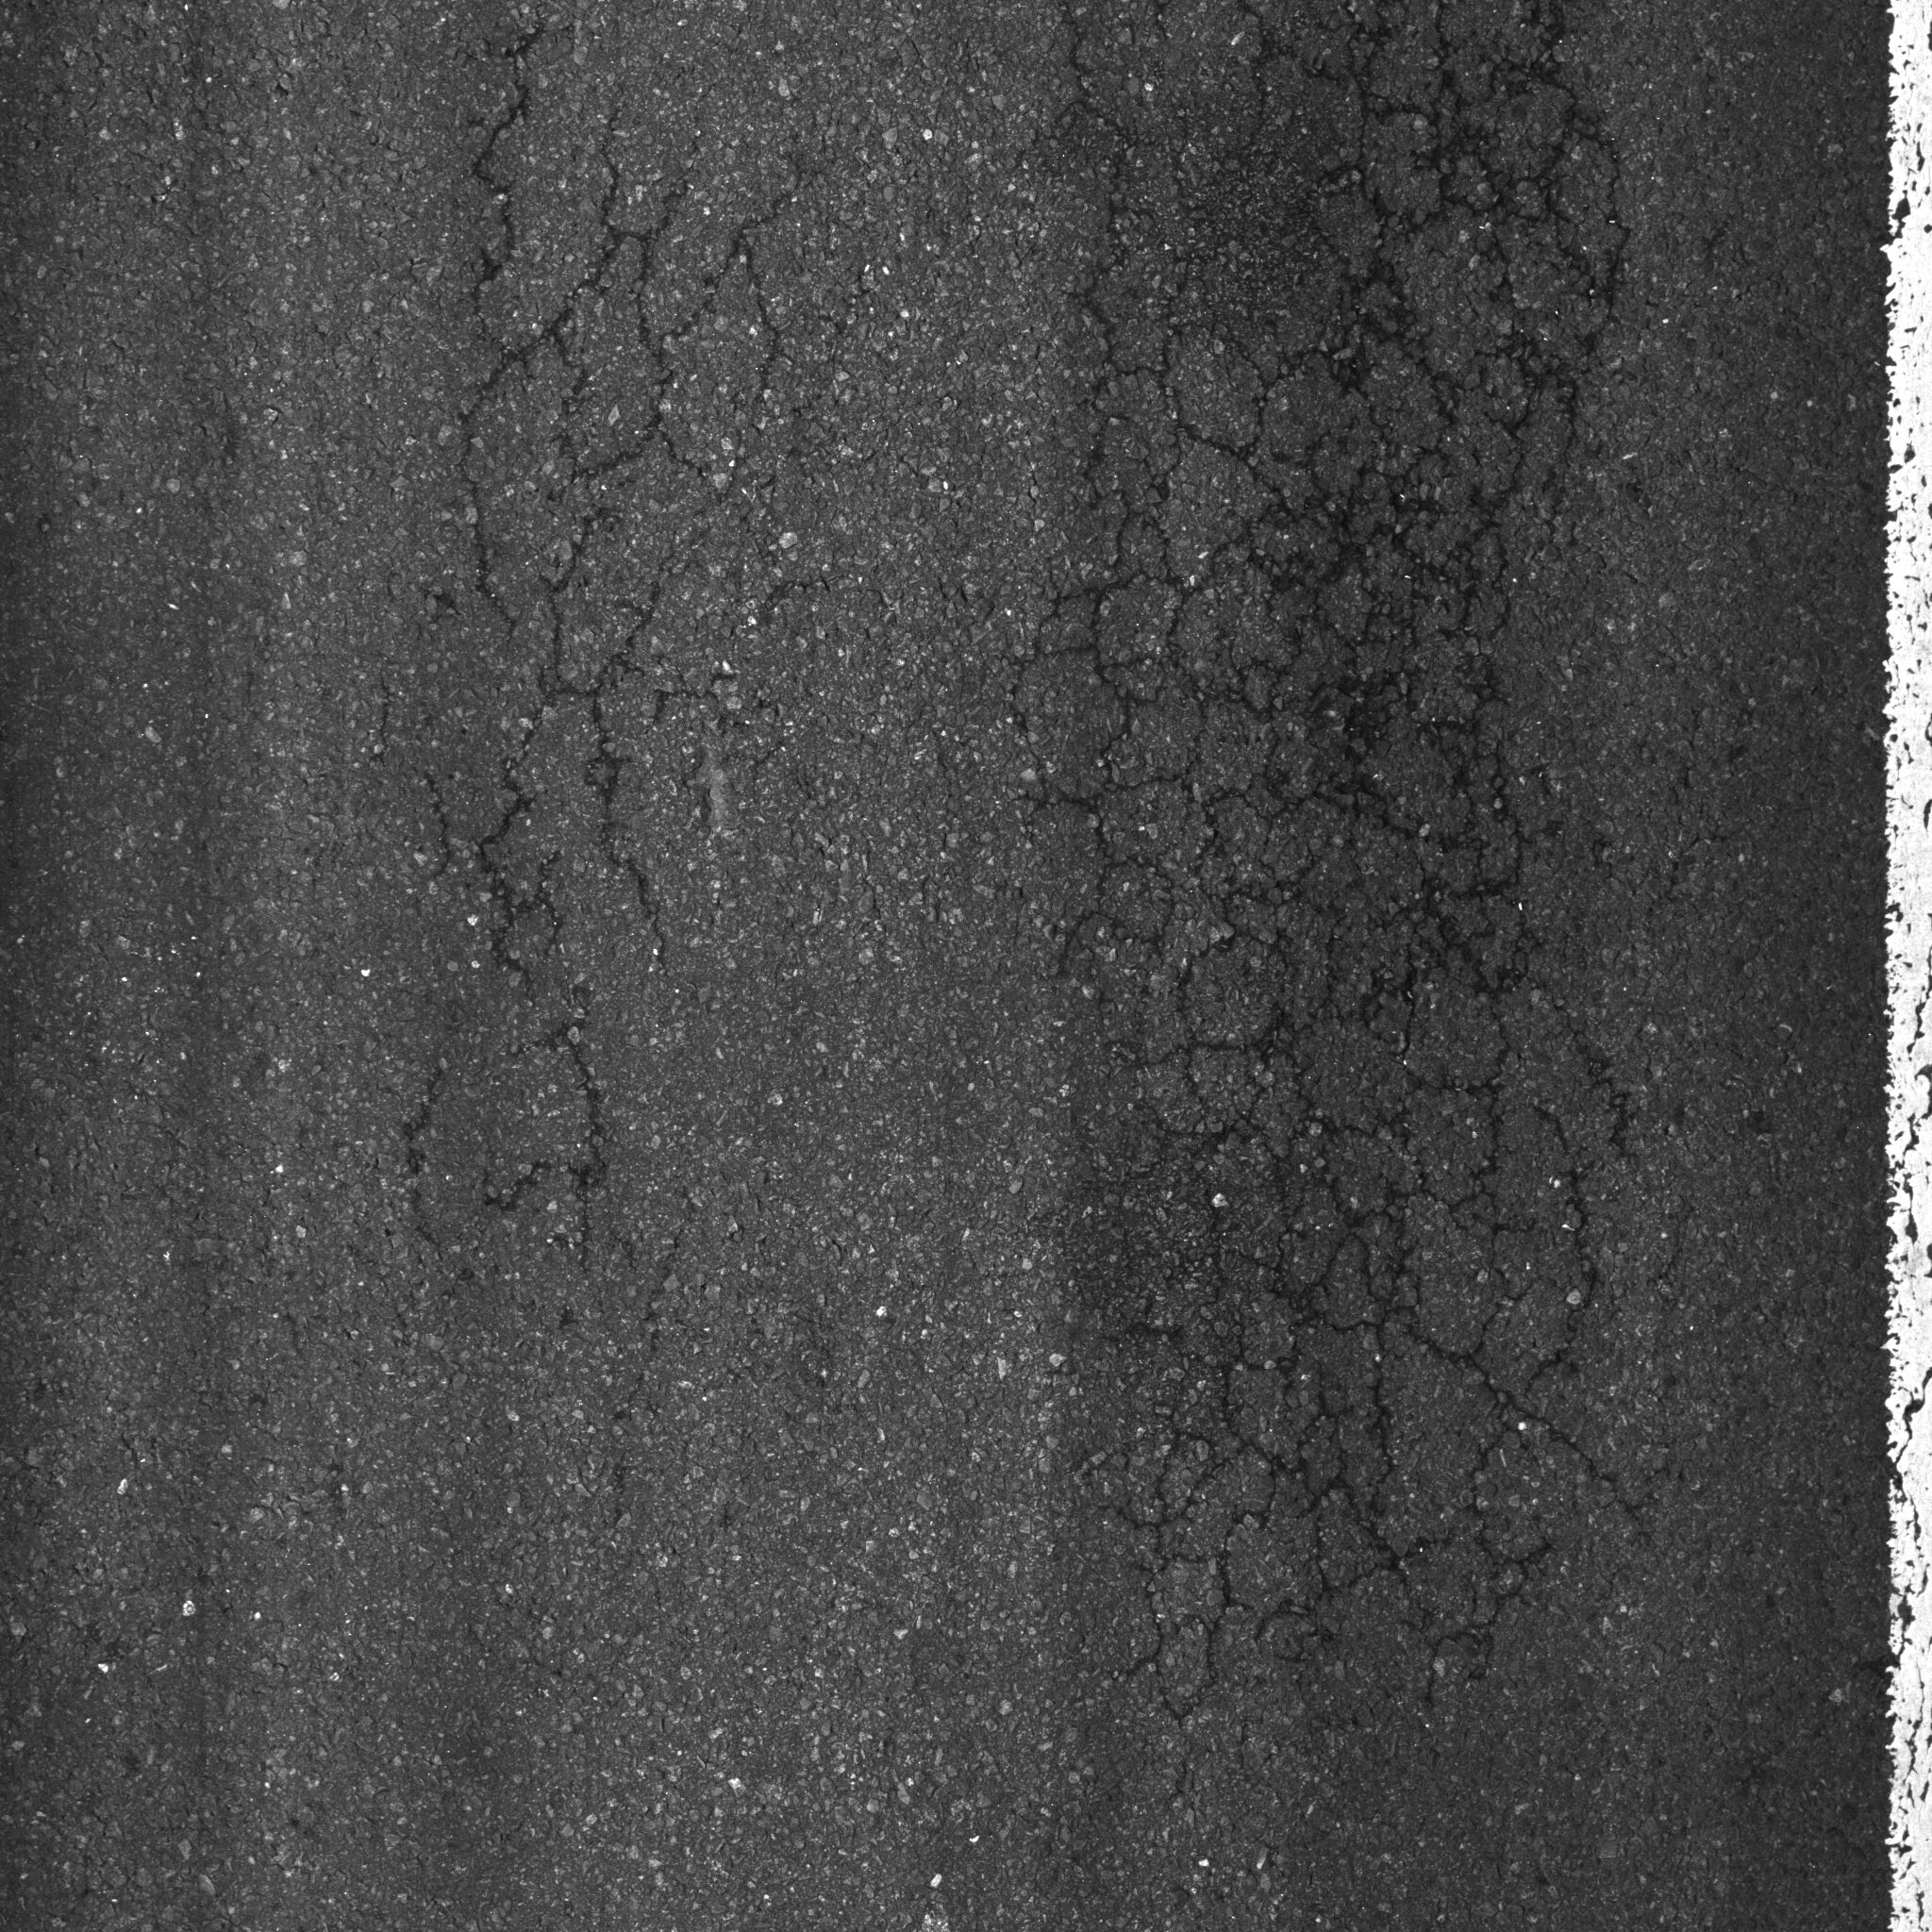alligator: (948, 14, 1688, 1753), (349, 39, 840, 1330)
